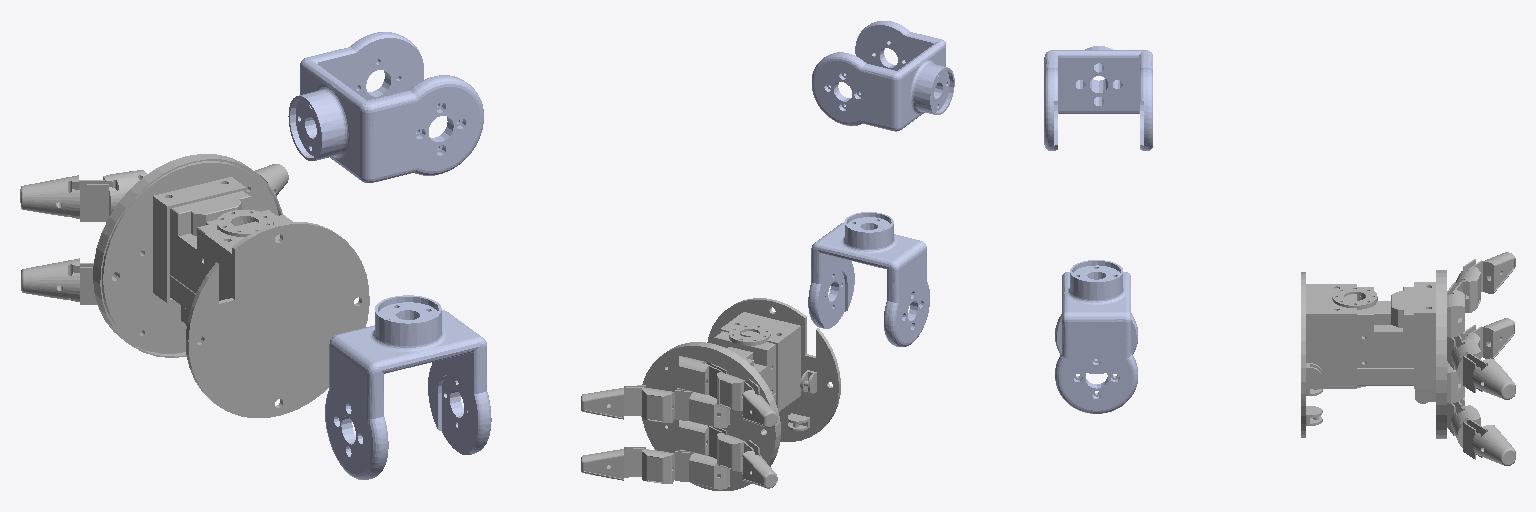
robot.urdf — flov2withhead:
<?xml version="1.0" encoding="utf-8"?>
<!-- This URDF was automatically created by SolidWorks to URDF Exporter! Originally created by Stephen Brawner (brawner@gmail.com) 
     Commit Version: 1.6.0-4-g7f85cfe  Build Version: 1.6.7995.38578
     For more information, please see http://wiki.ros.org/sw_urdf_exporter -->
<robot
  name="flov2withhead">
  
  
  <link name="world"/>
  
  
  
  <joint name="base_joint" type="fixed">
	<parent link="world"/>
	<child link="base_link"/>
	<origin rpy="0 0 0" xyz="0.0 0.0 1"/>
  </joint>  
  
  
  
  
  
  
  <link
    name="base_link">
    <inertial>
      <origin
        xyz="0.000333168231091641 -0.0490077134325242 0.105556739128517"
        rpy="0 0 0" />
      <mass
        value="0.43756889593348" />
      <inertia
        ixx="0.000780173945392212"
        ixy="1.72547696446317E-06"
        ixz="-8.11722846382893E-08"
        iyy="0.000825842165328829"
        iyz="4.67151417985947E-05"
        izz="0.000643183765667985" />
    </inertial>
    <visual>
      <origin
        xyz="0 0 0"
        rpy="0 0 0" />
      <geometry>
        <mesh
          filename="package://flov2_robot_description/meshes/base_link.STL" />
      </geometry>
      <material
        name="">
        <color
          rgba="1 1 1 1" />
      </material>
    </visual>
    <collision>
      <origin
        xyz="0 0 0"
        rpy="0 0 0" />
      <geometry>
        <mesh
          filename="package://flov2_robot_description/meshes/base_link.STL" />
      </geometry>
    </collision>
  </link>
  <link
    name="right_up_joint">
    <inertial>
      <origin
        xyz="5.09595480396863E-10 7.24041410160581E-10 -0.0157092653420775"
        rpy="0 0 0" />
      <mass
        value="0.0208133468453592" />
      <inertia
        ixx="6.27974968154285E-06"
        ixy="-1.32343047844373E-11"
        ixz="8.95773787765367E-14"
        iyy="1.11423800240112E-05"
        iyz="1.27944084467922E-13"
        izz="8.2135527700594E-06" />
    </inertial>
    <visual>
      <origin
        xyz="0 0 0"
        rpy="0 0 0" />
      <geometry>
        <mesh
          filename="package://flov2_robot_description/meshes/right_up_joint.STL" />
      </geometry>
      <material
        name="">
        <color
          rgba="0.792156862745098 0.819607843137255 0.933333333333333 1" />
      </material>
    </visual>
    <collision>
      <origin
        xyz="0 0 0"
        rpy="0 0 0" />
      <geometry>
        <mesh
          filename="package://flov2_robot_description/meshes/right_up_joint.STL" />
      </geometry>
    </collision>
  </link>
  <joint
    name="r1"
    type="revolute">
    <origin
      xyz="0.093361 -0.051062 0.13081"
      rpy="1.5708 0 1.5708" />
    <parent
      link="base_link" />
    <child
      link="right_up_joint" />
    <axis
      xyz="0 0 1" />
    <limit
      lower="-3.14"
      upper="3.14"
      effort="100"
      velocity="10" />
  </joint>
  <link
    name="right_up_arm">
    <inertial>
      <origin
        xyz="0.0373903260955437 6.01721482870188E-05 -0.00541151025560814"
        rpy="0 0 0" />
      <mass
        value="0.142004365290478" />
      <inertia
        ixx="3.19807239576317E-05"
        ixy="-4.35320002639335E-08"
        ixz="2.24405433812147E-06"
        iyy="6.16421105939794E-05"
        iyz="9.8162953354545E-10"
        izz="6.84742764155626E-05" />
    </inertial>
    <visual>
      <origin
        xyz="0 0 0"
        rpy="0 0 0" />
      <geometry>
        <mesh
          filename="package://flov2_robot_description/meshes/right_up_arm.STL" />
      </geometry>
      <material
        name="">
        <color
          rgba="0.752941176470588 0.752941176470588 0.752941176470588 1" />
      </material>
    </visual>
    <collision>
      <origin
        xyz="0 0 0"
        rpy="0 0 0" />
      <geometry>
        <mesh
          filename="package://flov2_robot_description/meshes/right_up_arm.STL" />
      </geometry>
    </collision>
  </link>
  <joint
    name="r2"
    type="revolute">
    <origin
      xyz="0 0 0"
      rpy="-1.5708 0 -1.5708" />
    <parent
      link="right_up_joint" />
    <child
      link="right_up_arm" />
    <axis
      xyz="0 0 -1" />
    <limit
      lower="-3.14"
      upper="3.14"
      effort="100"
      velocity="10" />
  </joint>
  <link
    name="right_low_joint">
    <inertial>
      <origin
        xyz="5.09595032838206E-10 7.24041260974362E-10 -0.0157092653420775"
        rpy="0 0 0" />
      <mass
        value="0.0208133468453592" />
      <inertia
        ixx="6.27974968154287E-06"
        ixy="-1.32343047943505E-11"
        ixz="8.95773982853656E-14"
        iyy="1.11423800240113E-05"
        iyz="1.27944096469429E-13"
        izz="8.21355277005941E-06" />
    </inertial>
    <visual>
      <origin
        xyz="0 0 0"
        rpy="0 0 0" />
      <geometry>
        <mesh
          filename="package://flov2_robot_description/meshes/right_low_joint.STL" />
      </geometry>
      <material
        name="">
        <color
          rgba="0.792156862745098 0.819607843137255 0.933333333333333 1" />
      </material>
    </visual>
    <collision>
      <origin
        xyz="0 0 0"
        rpy="0 0 0" />
      <geometry>
        <mesh
          filename="package://flov2_robot_description/meshes/right_low_joint.STL" />
      </geometry>
    </collision>
  </link>
  <joint
    name="r3"
    type="revolute">
    <origin
      xyz="0.117 0 -0.001"
      rpy="-1.5708 -3.1416 -1.5708" />
    <parent
      link="right_up_arm" />
    <child
      link="right_low_joint" />
    <axis
      xyz="0 0 1" />
    <limit
      lower="-3.14"
      upper="3.14"
      effort="100"
      velocity="10" />
  </joint>
  <link
    name="right_low_arm">
    <inertial>
      <origin
        xyz="0.00014535 0.04812 0.00014102"
        rpy="0 0 0" />
      <mass
        value="0.18903" />
      <inertia
        ixx="8.2107E-05"
        ixy="3.3864E-07"
        ixz="5.514E-07"
        iyy="7.698E-05"
        iyz="-3.2583E-09"
        izz="0.00010333" />
    </inertial>
    <visual>
      <origin
        xyz="0 0 0"
        rpy="0 0 0" />
      <geometry>
        <mesh
          filename="package://flov2_robot_description/meshes/right_low_arm.STL" />
      </geometry>
      <material
        name="">
        <color
          rgba="0.75294 0.75294 0.75294 1" />
      </material>
    </visual>
    <collision>
      <origin
        xyz="0 0 0"
        rpy="0 0 0" />
      <geometry>
        <mesh
          filename="package://flov2_robot_description/meshes/right_low_arm.STL" />
      </geometry>
    </collision>
  </link>
  <joint
    name="r4"
    type="revolute">
    <origin
      xyz="0 0 0"
      rpy="0 -1.5708 0" />
    <parent
      link="right_low_joint" />
    <child
      link="right_low_arm" />
    <axis
      xyz="0 0 -1" />
    <limit
      lower="-3.14"
      upper="3.14"
      effort="100"
      velocity="10" />
  </joint>
  <link
    name="right_gripper">
    <inertial>
      <origin
        xyz="0.0039403 0.00064863 -0.021633"
        rpy="0 0 0" />
      <mass
        value="0.1033" />
      <inertia
        ixx="2.0963E-05"
        ixy="2.9075E-08"
        ixz="-3.1217E-07"
        iyy="1.8932E-05"
        iyz="1.7556E-08"
        izz="2.3352E-05" />
    </inertial>
    <visual>
      <origin
        xyz="0 0 0"
        rpy="0 0 0" />
      <geometry>
        <mesh
          filename="package://flov2_robot_description/meshes/right_gripper.STL" />
      </geometry>
      <material
        name="">
        <color
          rgba="0.75294 0.75294 0.75294 1" />
      </material>
    </visual>
    <collision>
      <origin
        xyz="0 0 0"
        rpy="0 0 0" />
      <geometry>
        <mesh
          filename="package://flov2_robot_description/meshes/right_gripper.STL" />
      </geometry>
    </collision>
  </link>
  <joint
    name="r5"
    type="fixed">
    <origin
      xyz="-0.000250000000047877 0.151140016004298 -0.000500000000000056"
      rpy="1.5707963267949 0 -3.14159265358979" />
    <parent
      link="right_low_arm" />
    <child
      link="right_gripper" />
    <axis
      xyz="0 0 0" />
  </joint>
  
  
  

  
  
  <transmission name="right_up_joint_trans">
	<type>transmission_interface/SimpleTransmission</type>
	<joint name="r1">
		<hardwareInterface>hardware_interface/PositionJointInterface</hardwareInterface>
	</joint>
	<actuator name="right_up_joint_motor">
		<hardwareInterface>hardware_interface/PositionJointInterface</hardwareInterface>
		<mechanicalReduction>1</mechanicalReduction>
	</actuator>
  </transmission>
  
  <transmission name="right_up_arm_trans">
	<type>transmission_interface/SimpleTransmission</type>
	<joint name="r2">
		<hardwareInterface>hardware_interface/PositionJointInterface</hardwareInterface>
	</joint>
	<actuator name="right_up_arm_motor">
		<hardwareInterface>hardware_interface/PositionJointInterface</hardwareInterface>
		<mechanicalReduction>1</mechanicalReduction>
	</actuator>
  </transmission>
  
  <transmission name="right_low_joint_trans">
	<type>transmission_interface/SimpleTransmission</type>
	<joint name="r3">
		<hardwareInterface>hardware_interface/PositionJointInterface</hardwareInterface>
	</joint>
	<actuator name="right_low_joint_motor">
		<hardwareInterface>hardware_interface/PositionJointInterface</hardwareInterface>
		<mechanicalReduction>1</mechanicalReduction>
	</actuator>
  </transmission>
  
  <transmission name="right_low_arm_trans">
	<type>transmission_interface/SimpleTransmission</type>
	<joint name="r4">
		<hardwareInterface>hardware_interface/PositionJointInterface</hardwareInterface>
	</joint>
	<actuator name="right_low_arm_motor">
		<hardwareInterface>hardware_interface/PositionJointInterface</hardwareInterface>
		<mechanicalReduction>1</mechanicalReduction>
	</actuator>
  </transmission>  
  

  
  <gazebo>
	<plugin name="control" filename="libgazebo_ros_control.so">
		<robotNamespace>/</robotNamespace>
	</plugin>
  </gazebo>
  
  

  
  <gazebo reference="right_up_joint">
	<selfCollide>true</selfCollide>
  </gazebo>

  <gazebo reference="right_up_arm">
	<selfCollide>true</selfCollide>
  </gazebo>
  
  <gazebo reference="right_low_joint">
	<selfCollide>true</selfCollide>
  </gazebo>
  
  <gazebo reference="right_low_arm">
	<selfCollide>true</selfCollide>
  </gazebo>
  
  <gazebo reference="right_gripper">
	<selfCollide>true</selfCollide>
  </gazebo>
  

</robot>

--- Facts derived from the render (not from the file) ---
The picture shows the robot from 3 angles, left to right: view 1: azimuth 30°, elevation 25°; view 2: azimuth 150°, elevation 25°; view 3: azimuth 270°, elevation 25°; orthographic projection.
Robot: flov2withhead — 7 links, 6 joints (4 revolute, 2 fixed); root link world; default pose: all joints at 0.
Links seen in each view (by area): view 1: right_gripper, right_up_joint, right_low_joint; view 2: right_gripper, right_up_joint, right_low_joint; view 3: right_gripper, right_low_joint, right_up_joint.
Boxes of the visible links, x1,y1,x2,y2 form: right_gripper: [20, 154, 369, 417]; right_up_joint: [288, 32, 483, 182]; right_low_joint: [325, 295, 491, 479]; right_gripper: [581, 298, 840, 490]; right_up_joint: [812, 21, 954, 131]; right_low_joint: [808, 212, 929, 346]; right_gripper: [1301, 252, 1515, 465]; right_low_joint: [1055, 260, 1137, 413]; right_up_joint: [1044, 46, 1152, 150].
Bounding box of the posed robot: 0.1052 × 0.2031 × 0.1712 m (x, y, z).
Meshes: 6 distinct files referenced, 3 mesh visuals loaded (3 binary STL); not drawn: 3 (reference not matched to a file when rendering).
